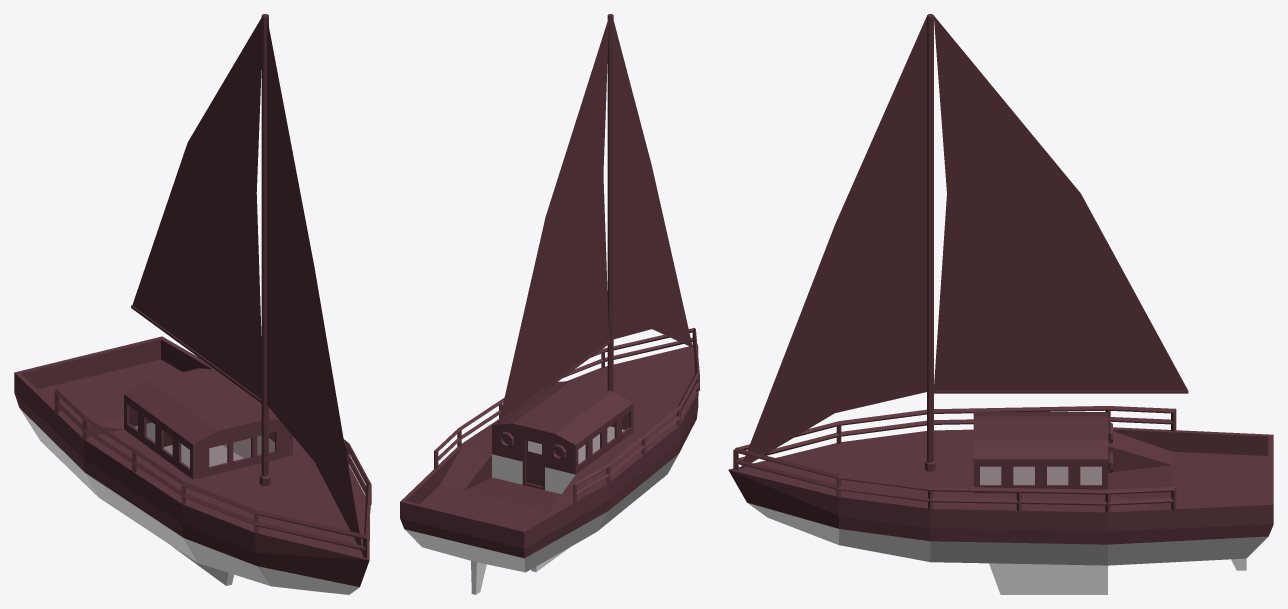
File: boat-sail.fbx
3 renders of one model, left to right at view 1: azimuth 30°, elevation 25°; view 2: azimuth 150°, elevation 25°; view 3: azimuth 270°, elevation 25°, orthographic. The views are drawn at different scales.
Visible parts, largest first — view 1: boat-sail; view 2: boat-sail; view 3: boat-sail.
Boxes of the visible parts, box(x1,y1,x2,y2) form: boat-sail: box(14, 14, 371, 594); boat-sail: box(400, 14, 699, 594); boat-sail: box(728, 14, 1273, 594).
Size of the model in its own units: 7.61 by 23.8 by 20.35.
